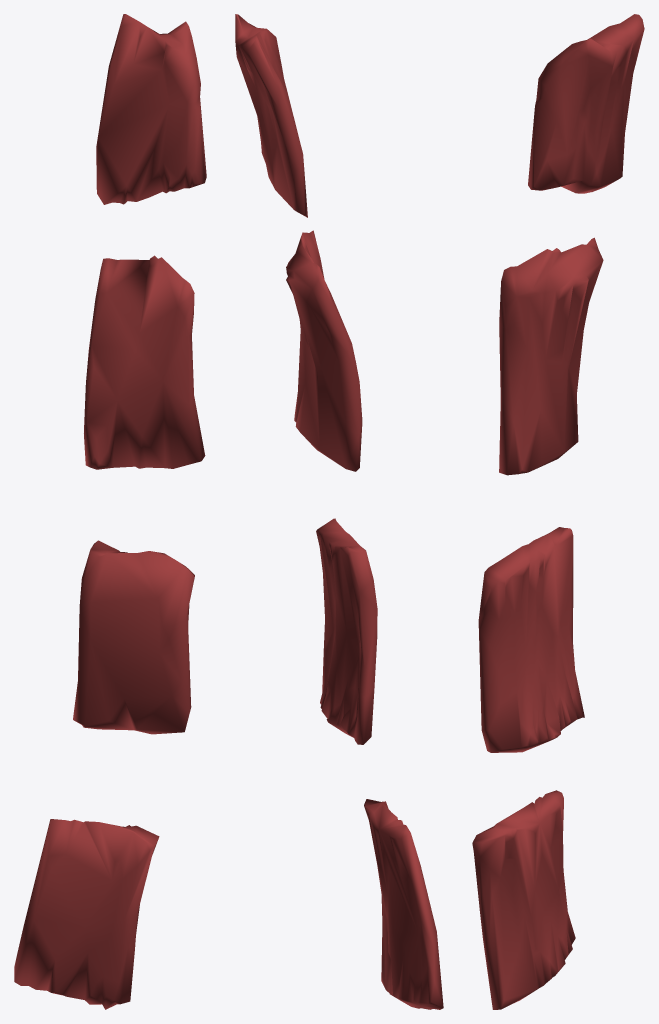
Rendered from ventral-parts-of-lateral-intertransversarii-lumborum-muscles-r.glb.
3 views of the same model, side by side, from view 1: azimuth 30°, elevation 25°; view 2: azimuth 150°, elevation 25°; view 3: azimuth 270°, elevation 25° (orthographic). The views are drawn at different scales.
Visible parts, largest first — view 1: Ventral parts of lateral intertransversarii lumborum muscles; view 2: Ventral parts of lateral intertransversarii lumborum muscles; view 3: Ventral parts of lateral intertransversarii lumborum muscles.
Part boxes in pixels (x1=…): Ventral parts of lateral intertransversarii lumborum muscles: x1=14, y1=14, x2=206, y2=1009; Ventral parts of lateral intertransversarii lumborum muscles: x1=235, y1=14, x2=443, y2=1009; Ventral parts of lateral intertransversarii lumborum muscles: x1=472, y1=14, x2=644, y2=1009.
Size of the model in its own units: 0.0241 by 0.1165 by 0.0175.
